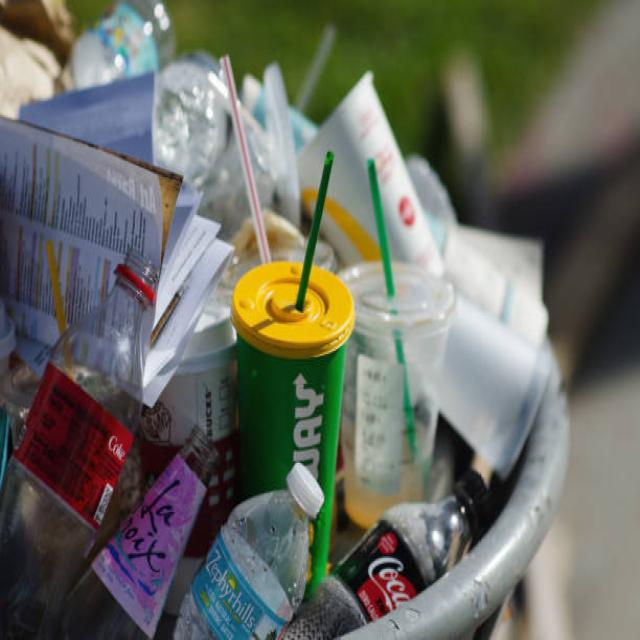plastic: (212, 55, 464, 604), (1, 313, 169, 619)
